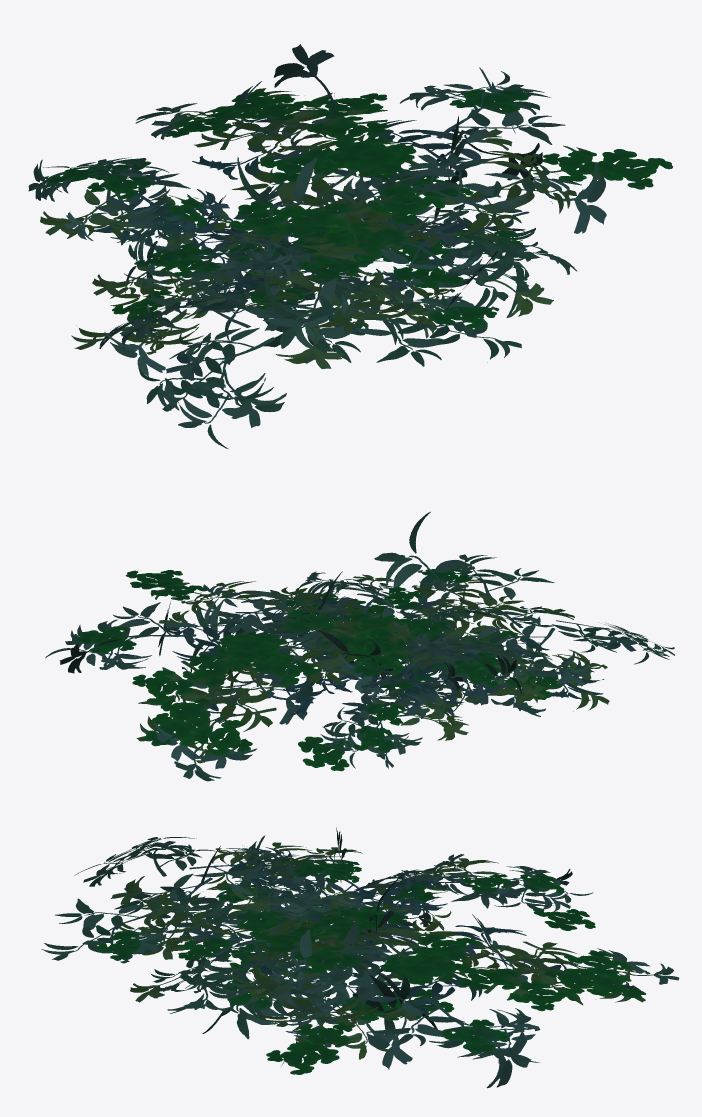
3 views of the same model, one above another, from view 1: azimuth 30°, elevation 25°; view 2: azimuth 150°, elevation 25°; view 3: azimuth 270°, elevation 25° (orthographic). The views are drawn at different scales.
Visible parts, largest first — view 1: SM_BM_Leaf_Piles_03_LOD0; view 2: SM_BM_Leaf_Piles_03_LOD0; view 3: SM_BM_Leaf_Piles_03_LOD0.
Boxes of the visible parts, x1=… form: SM_BM_Leaf_Piles_03_LOD0: x1=28, y1=44, x2=672, y2=448; SM_BM_Leaf_Piles_03_LOD0: x1=45, y1=511, x2=674, y2=781; SM_BM_Leaf_Piles_03_LOD0: x1=41, y1=827, x2=679, y2=1088.
Size of the model in its own units: 1.05 by 0.2929 by 1.1.
Materials: 1 (1 with a texture image).
